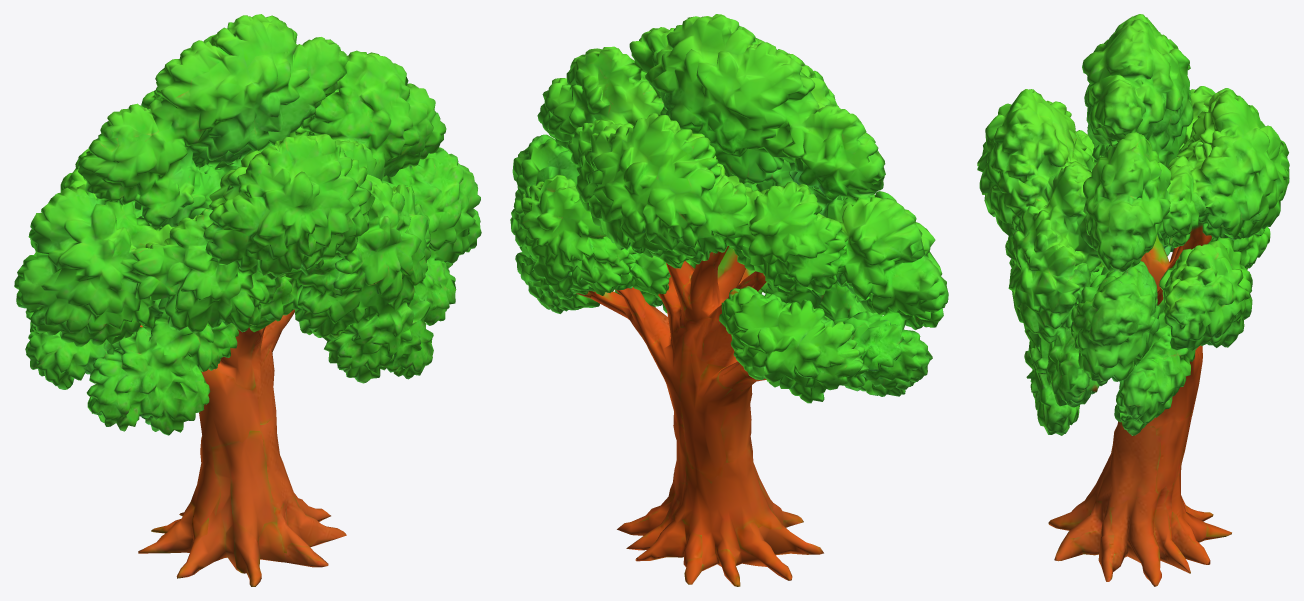
Rendered from tree.glb.
The picture shows the model from 3 angles, left to right: view 1: azimuth 30°, elevation 25°; view 2: azimuth 150°, elevation 25°; view 3: azimuth 270°, elevation 25°; orthographic projection.
Size of the model in its own units: 1.67 by 1.9 by 1.03.
1 material, 1 textured.
